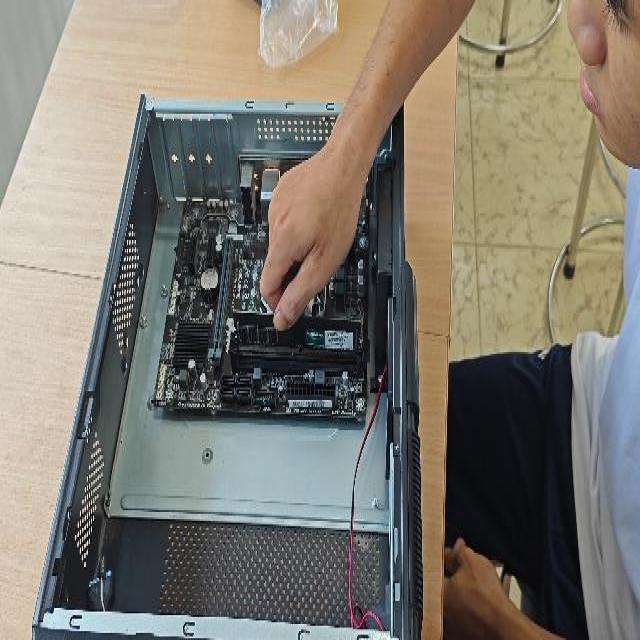Mainboard: (153, 192, 369, 423)
RAM: (232, 306, 362, 356)
